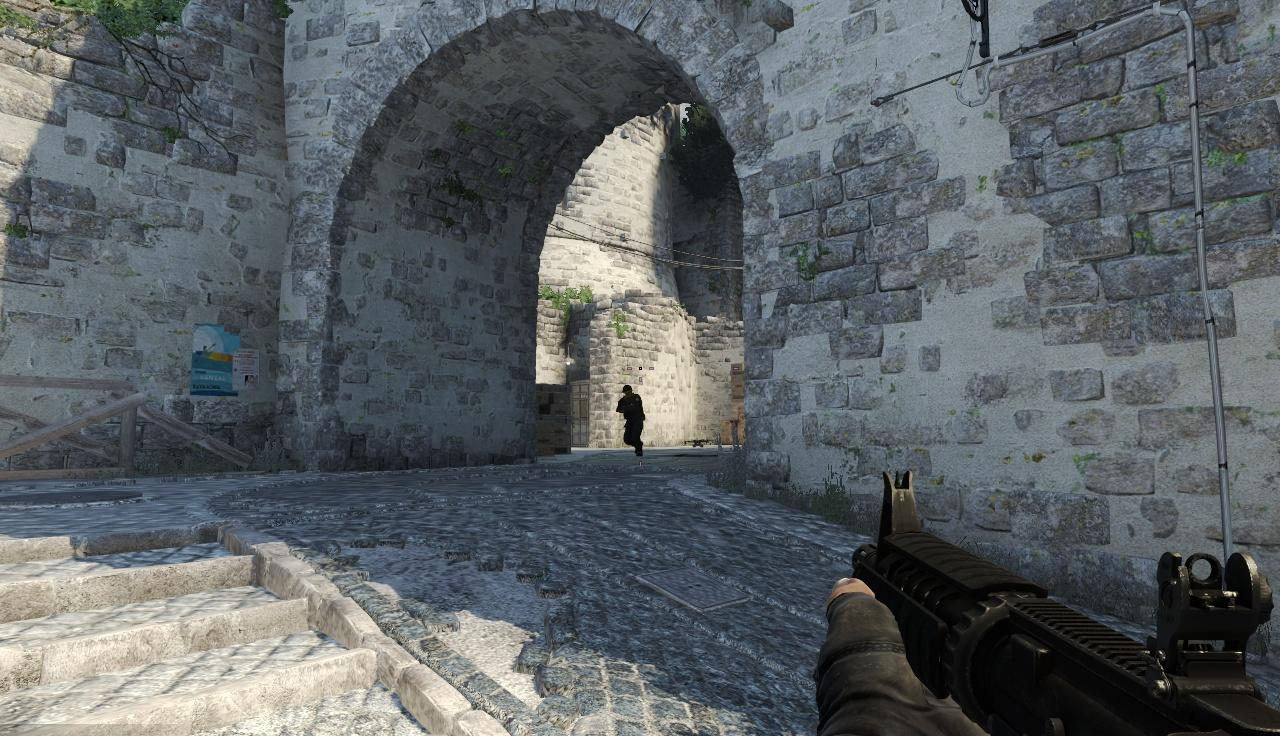ct: (617, 384, 645, 457)
cthead: (622, 385, 634, 398)
rifle: (835, 468, 1280, 736)
